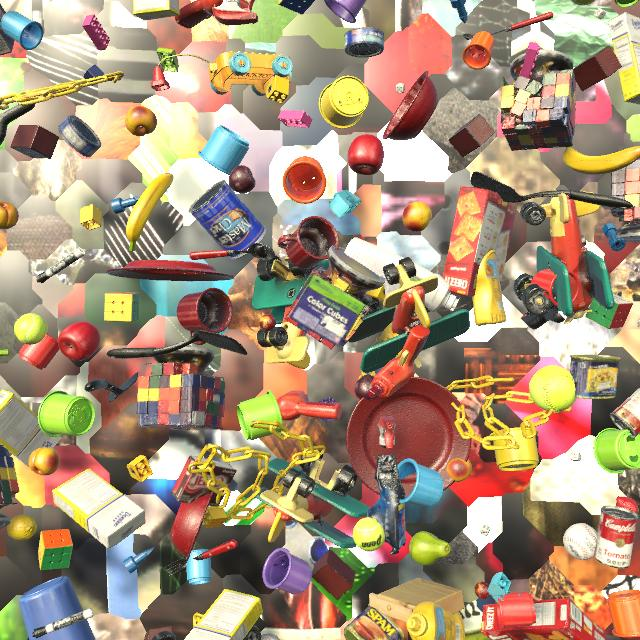ycb_002_master_chef_can: (189, 180, 267, 260)
ycb_003_cracker_box: (443, 186, 518, 296), (481, 598, 606, 640)
ycb_004_sugar_box: (52, 468, 145, 549), (0, 389, 62, 467), (184, 589, 263, 640), (608, 13, 640, 105), (133, 0, 179, 21)
ycb_005_tomato_soup_can: (594, 506, 638, 569), (610, 388, 640, 438)
ycb_006_mustard_bottle: (472, 250, 506, 326), (359, 322, 402, 379), (407, 601, 465, 640)
ycb_007_tuna_fish_can: (58, 115, 101, 158), (344, 27, 384, 58)
ycb_008_pudding_box: (171, 455, 237, 507), (0, 4, 15, 55)
ycb_010_potted_meat_can: (570, 354, 621, 399), (343, 603, 404, 640)
ycb_011_banana: (126, 173, 174, 251), (563, 146, 640, 175), (0, 350, 9, 356)
ycb_012_strawberry: (616, 496, 639, 515)
ycb_013_apple: (58, 322, 100, 361), (347, 134, 384, 175)
ycb_014_lemon: (7, 514, 37, 541)
ycb_015_peach: (125, 105, 157, 136), (402, 201, 432, 232), (28, 447, 60, 476), (447, 458, 472, 483), (0, 201, 19, 229)
ycb_016_pear: (409, 531, 451, 566)
ycb_018_plum: (229, 165, 256, 193), (354, 375, 378, 400)
